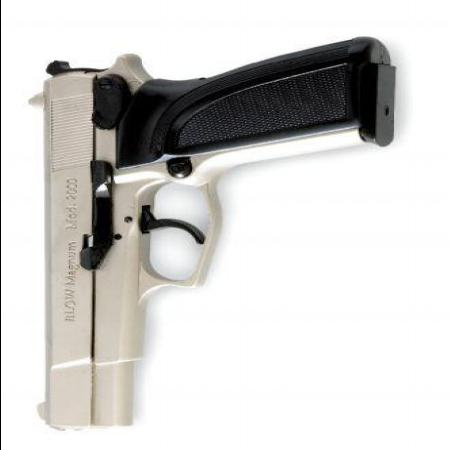Pistol: (26, 37, 396, 437)
